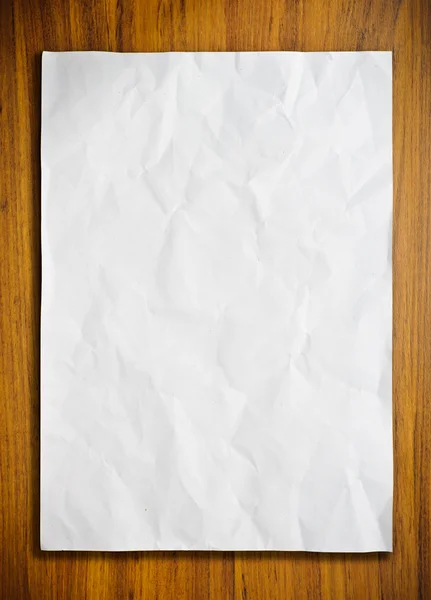page: (43, 52, 390, 548)
